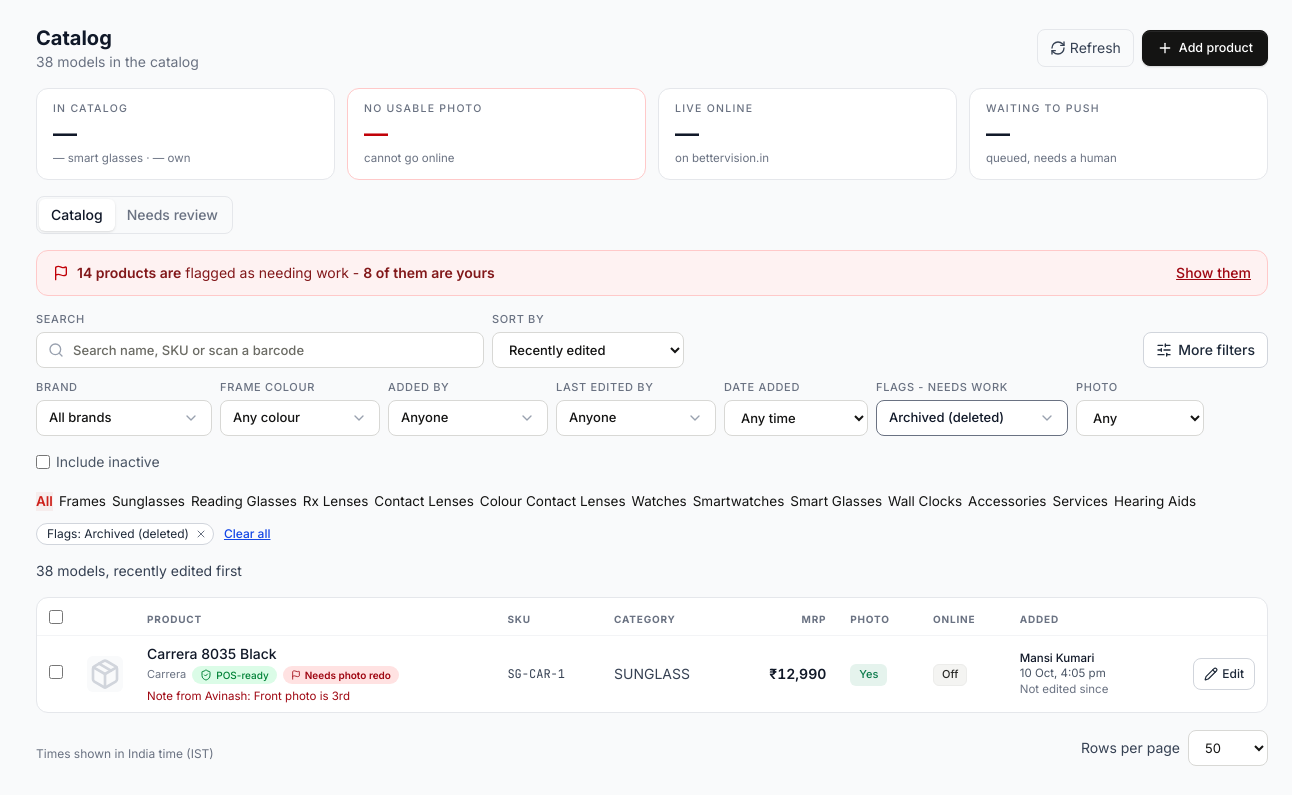
Test: who sees which bulk button › only admins are offered Archived; there the bar offers Restore
Expected: the table with test id "catalog-table" is shown, [37,598,1267,712]
Click the checkbox named "Select Carrera 8035 Black" at point(56, 673), box [49,666,63,680]
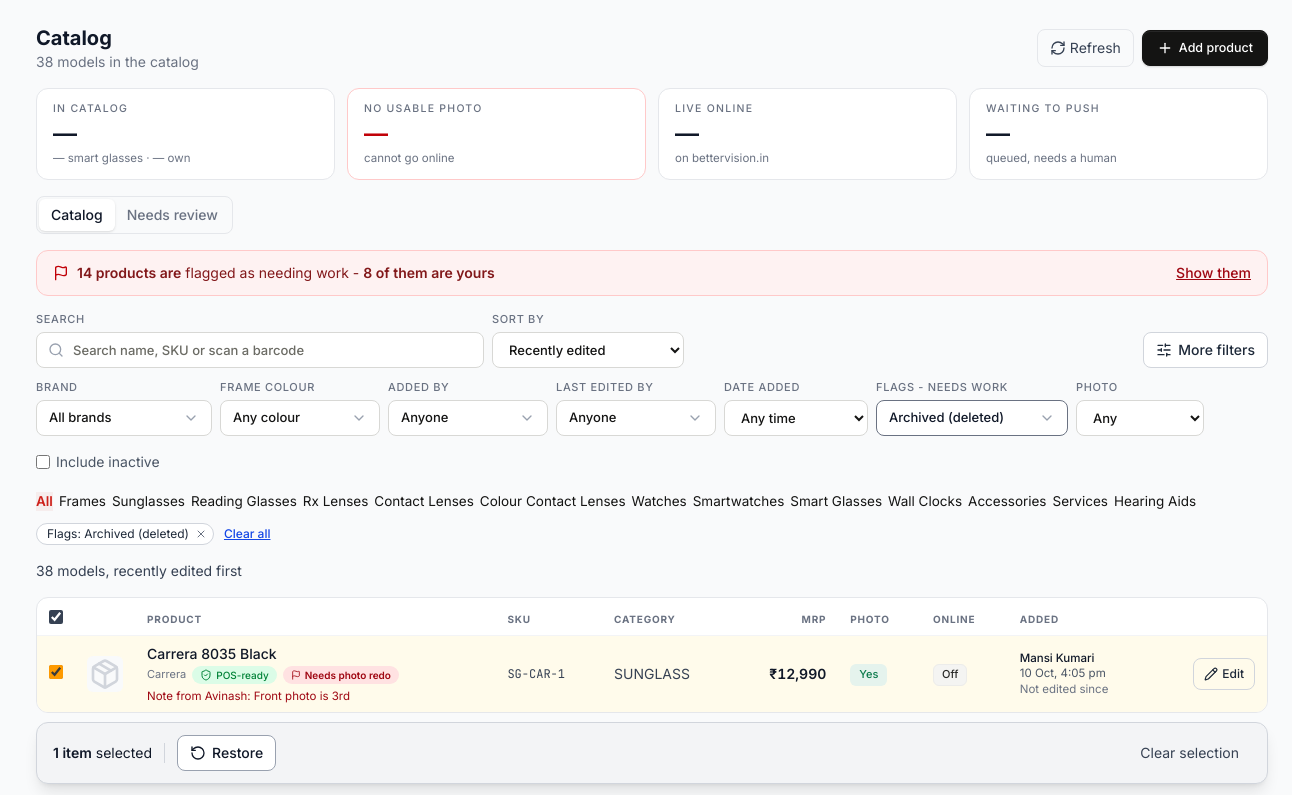
Expected: the button "Restore" is shown, [177,735,276,771]
